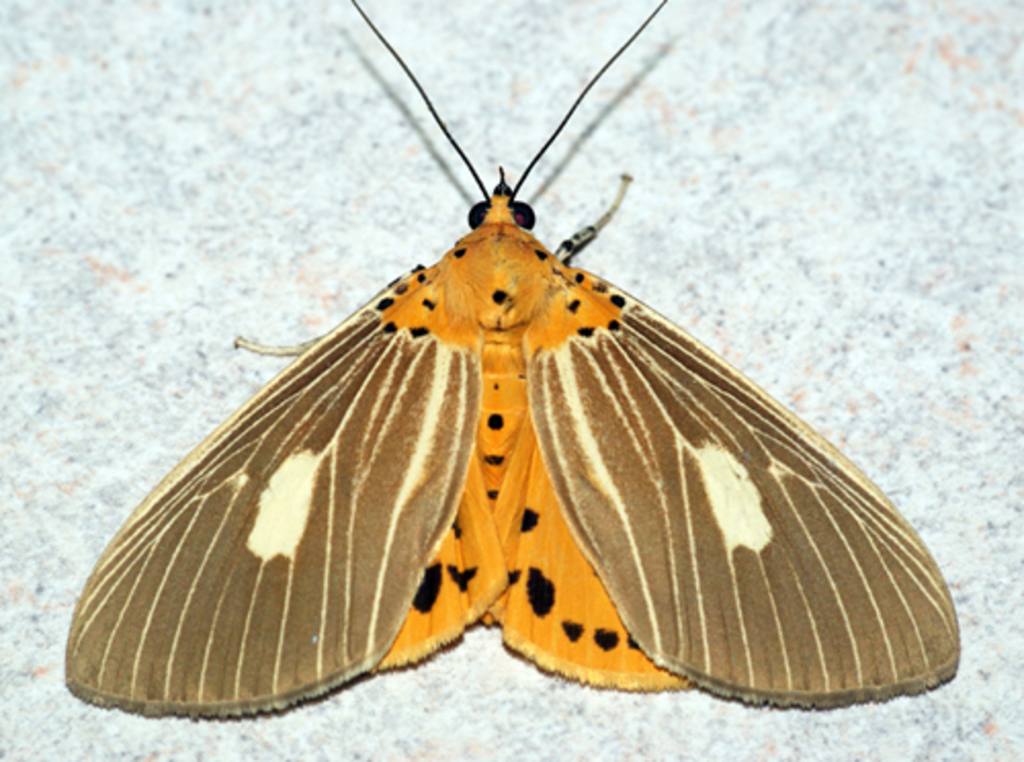Butterfly: (38, 146, 972, 729)
